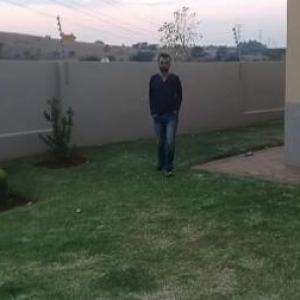follow: (145, 50, 188, 174)
